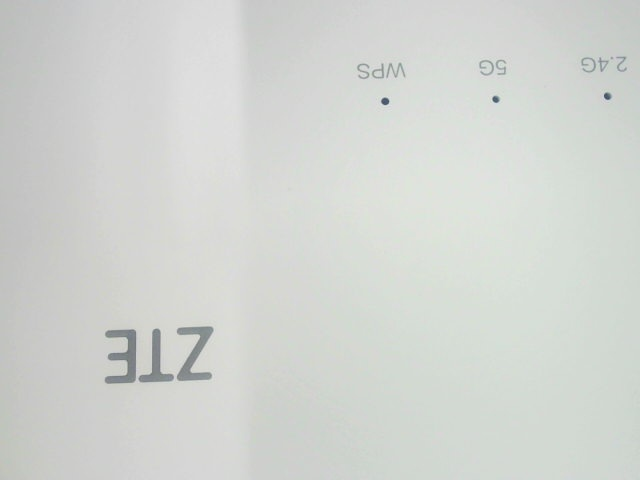AN_ZTE: (98, 320, 216, 387)
